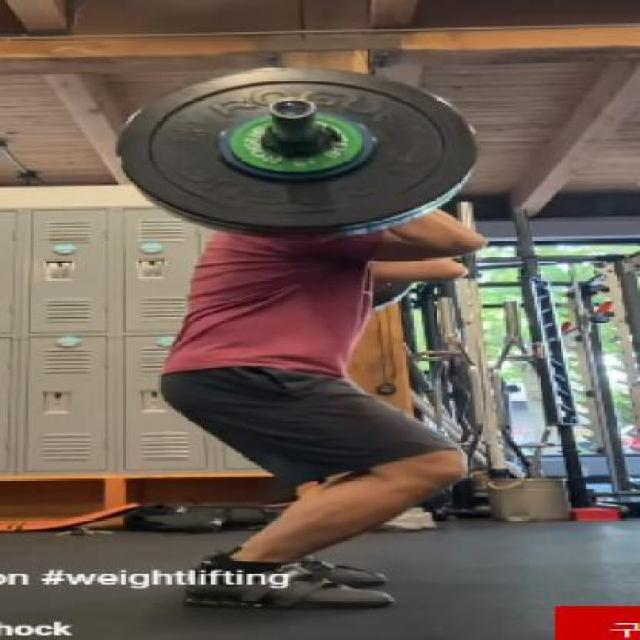barbell: (108, 61, 484, 242)
